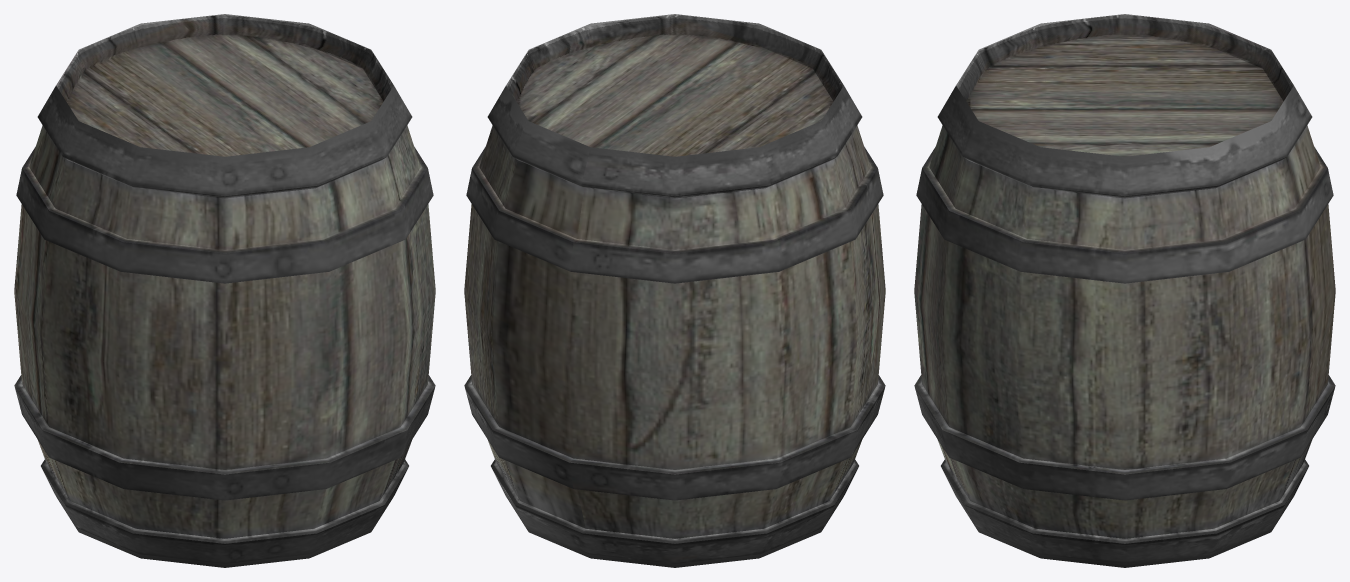
The model's file is mine_barrel.dae.
3 renders of one model, left to right at view 1: azimuth 30°, elevation 25°; view 2: azimuth 150°, elevation 25°; view 3: azimuth 270°, elevation 25°, orthographic.
Parts seen in each view (by area): view 1: barrel; view 2: barrel; view 3: barrel.
Part boxes in pixels (left/top/right/bottom): barrel: left=14, top=14, right=435, bottom=567; barrel: left=464, top=14, right=885, bottom=567; barrel: left=914, top=14, right=1335, bottom=567.
Size of what is drawn, in the model's own units: 1 by 1.08 by 1.
